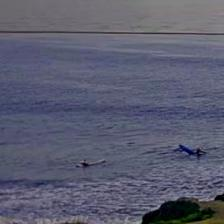surfer: (75, 159, 89, 168), (195, 148, 206, 155)
